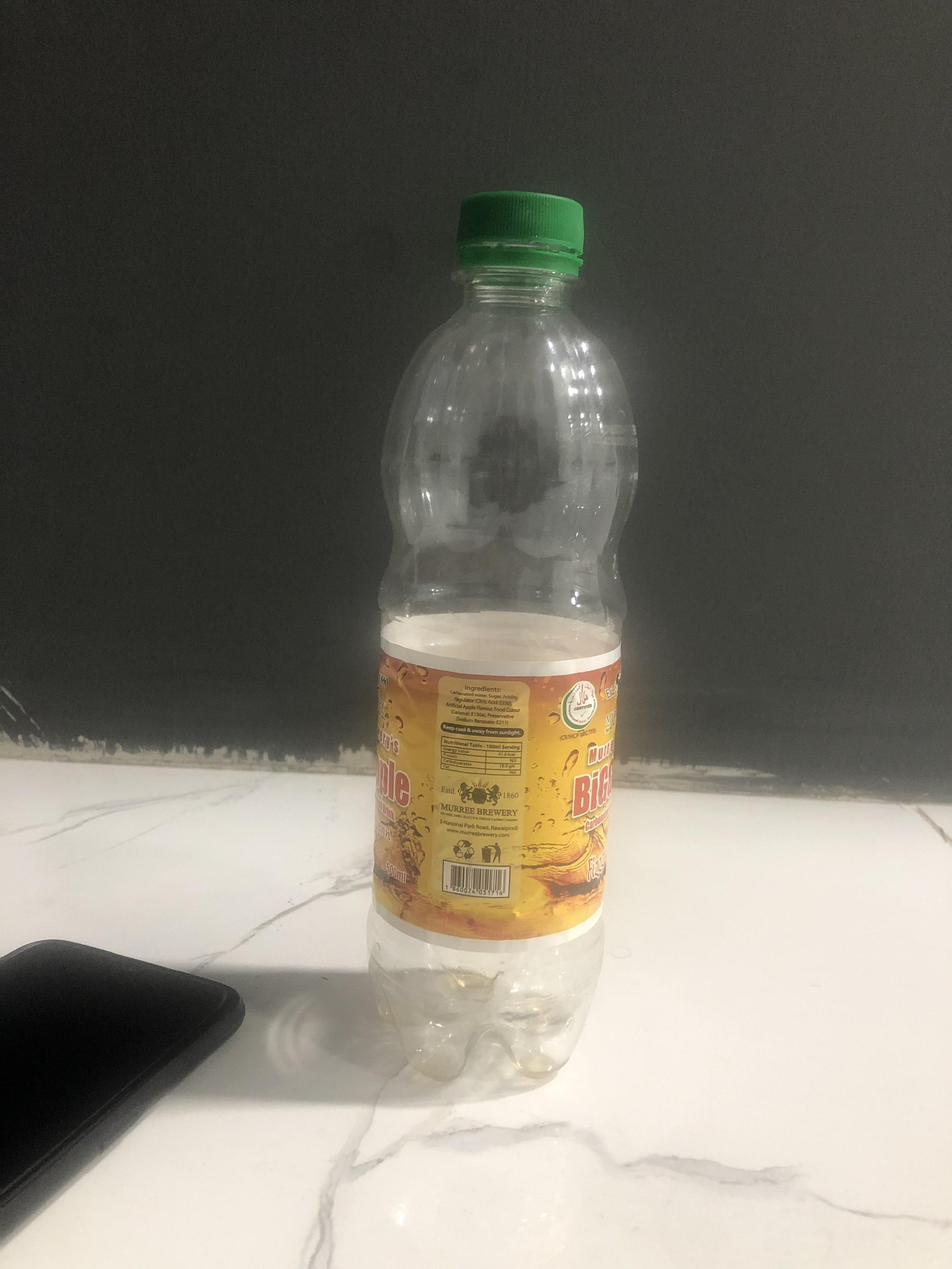bottle-plastic: (371, 187, 634, 1089)
